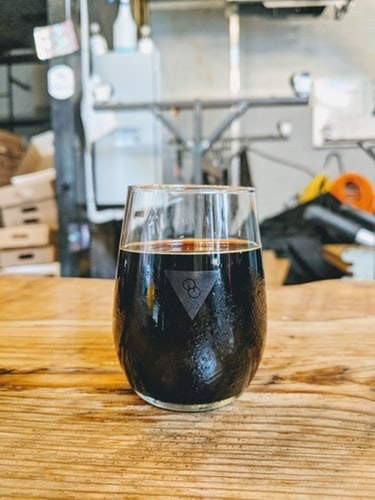whiskey: (114, 182, 263, 401)
